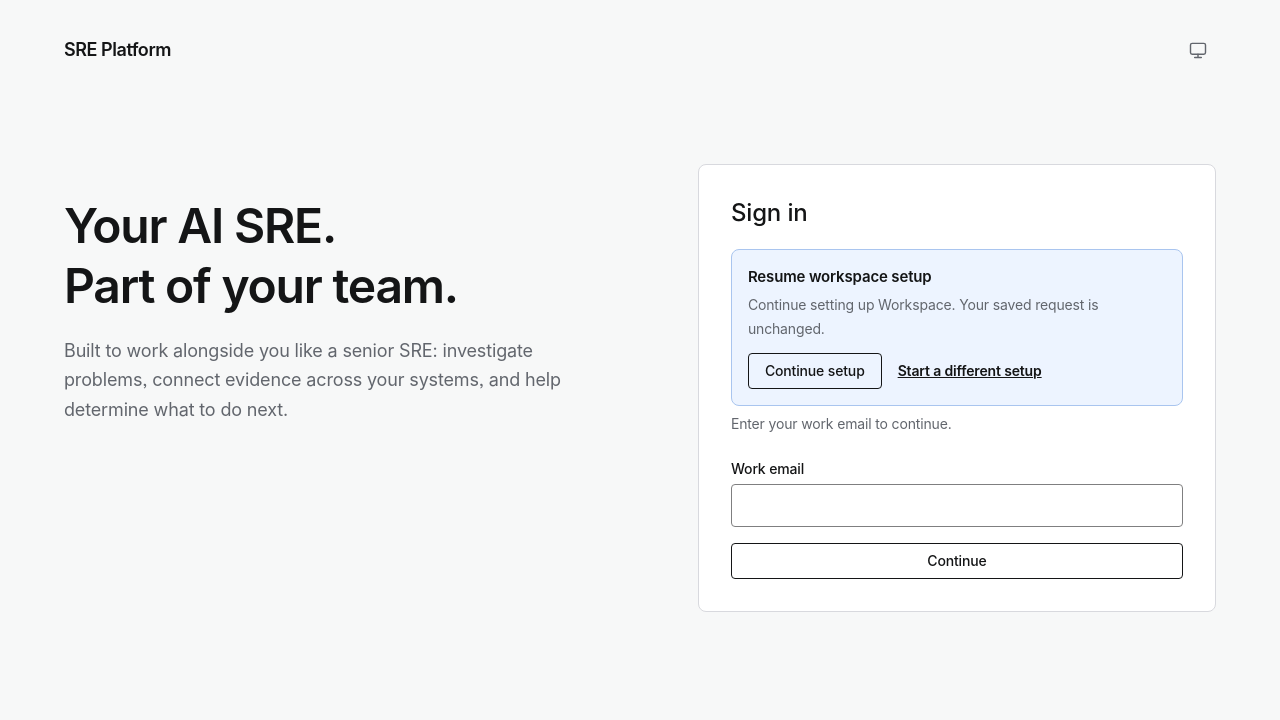
Test case: uses the server-validated provider when another tab replaced stale settings
The width and height of the screenshot is (1280, 720).
Click the button "Continue setup". click: (815, 370)
box: [748,352,882,388]
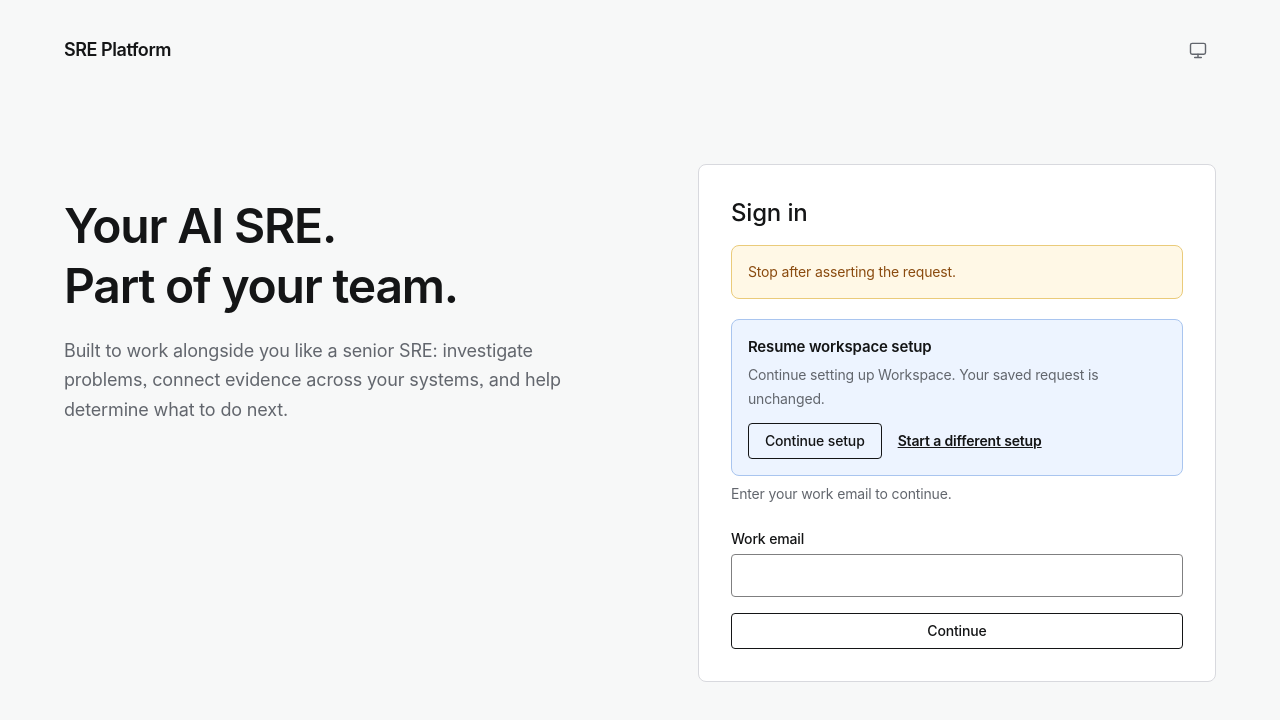
Result: the text "Stop after asserting the request." is shown at [748,263,956,280]
